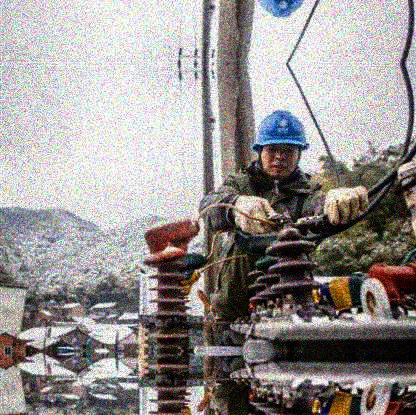helmet: (253, 109, 310, 179)
